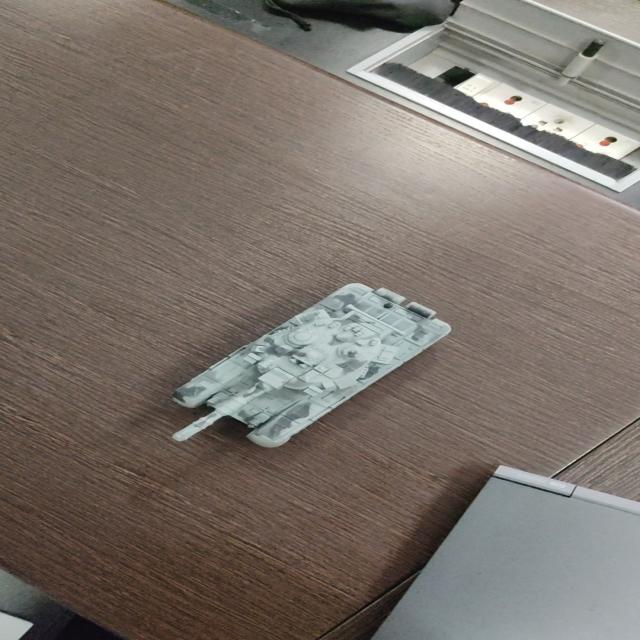tank: (175, 282, 452, 449)
